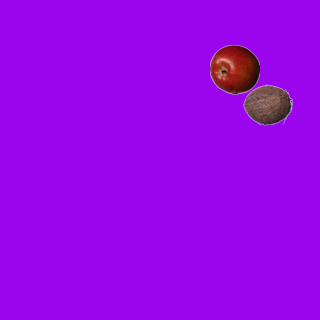Apple Braeburn: (209, 44, 259, 94)
Cocos: (242, 79, 292, 129)
